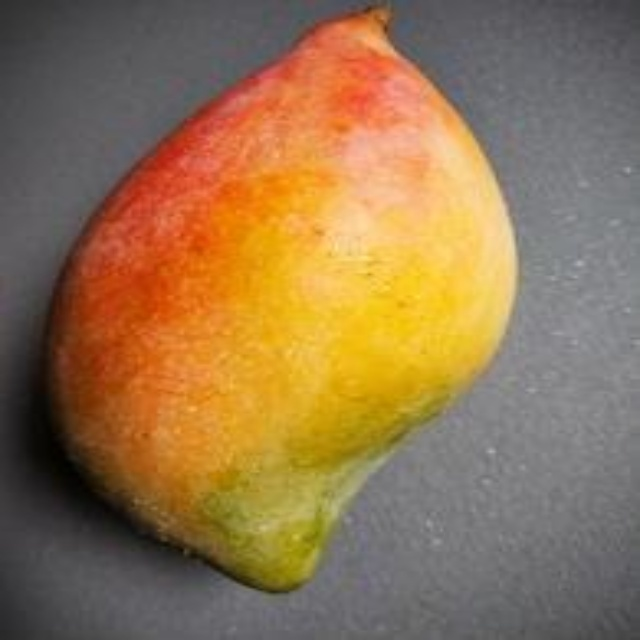mango: (52, 15, 513, 589)
